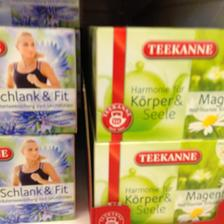Tee: (93, 25, 223, 143), (91, 140, 223, 220), (0, 25, 76, 133), (0, 133, 76, 223)
